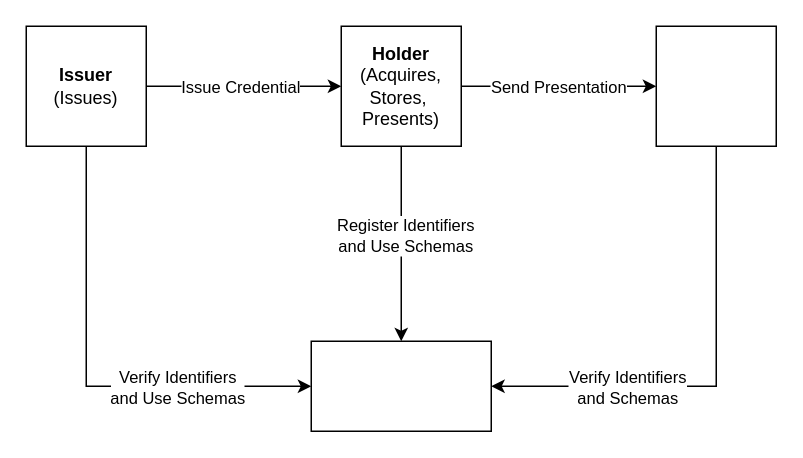
Image size: 803x458. Some labels were removed from this diagram. Here are the shapes that lost their labels. From the top down, the centre of each, then its label:
the point at 715,85: Verifier (Requests, Verifies)
the point at 400,385: Verifiable Data Registry (Maintain Identifiers and Schemas)
